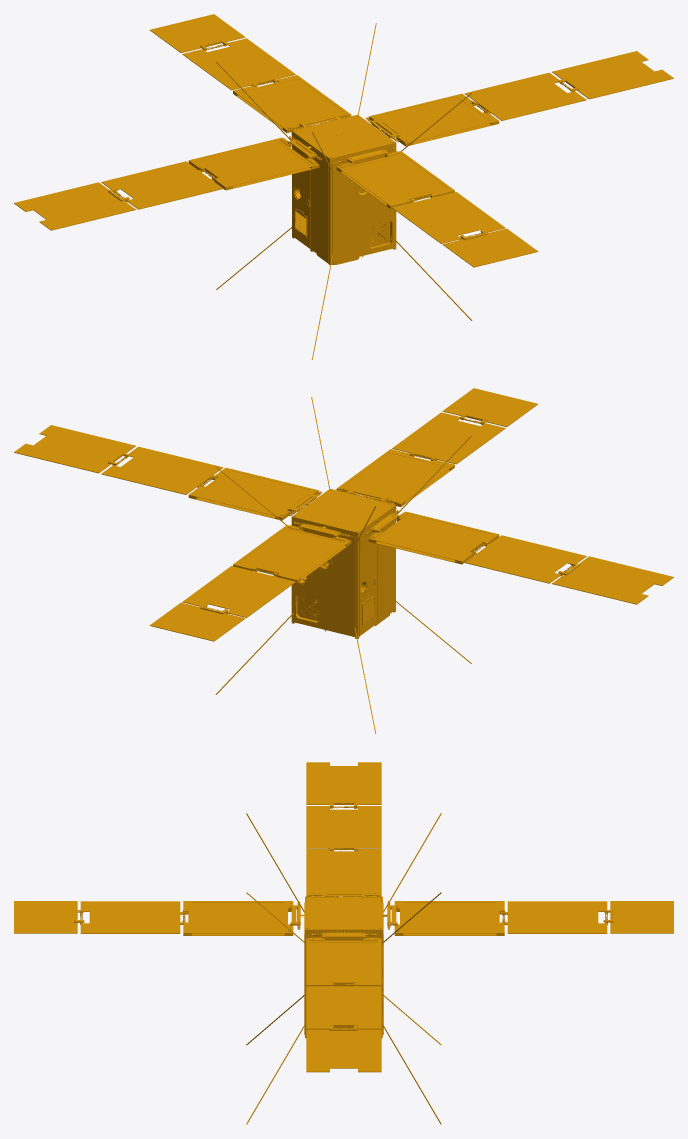
The model's file is lumid-cubesat.glb.
3 renders of one model, top to bottom at view 1: azimuth 30°, elevation 25°; view 2: azimuth 150°, elevation 25°; view 3: azimuth 270°, elevation 25°, orthographic.
Visible parts, largest first — view 1: FullAssembly.igs; view 2: FullAssembly.igs; view 3: FullAssembly.igs.
Boxes of the visible parts, x1,y1,x2,y2 form: FullAssembly.igs: (14, 14, 673, 359); FullAssembly.igs: (14, 388, 673, 733); FullAssembly.igs: (14, 762, 673, 1124).
Size of the model in its own units: 2.13 by 0.7456 by 1.92.
